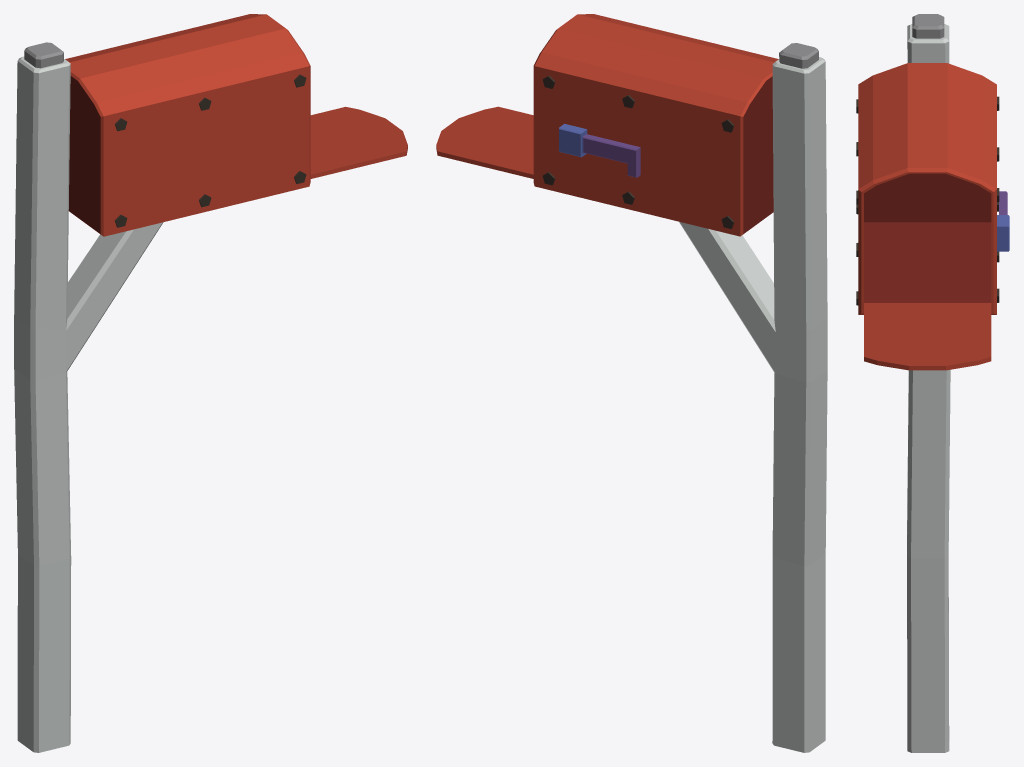
The model's file is MailPost_02.glb.
3 renders of one model, left to right at view 1: azimuth 30°, elevation 25°; view 2: azimuth 150°, elevation 25°; view 3: azimuth 270°, elevation 25°, orthographic. The views are drawn at different scales.
Visible parts, largest first — view 1: MailPost_02; view 2: MailPost_02; view 3: MailPost_02.
Boxes of the visible parts, x1,y1,x2,y2 form: MailPost_02: [14, 14, 407, 752]; MailPost_02: [436, 14, 827, 752]; MailPost_02: [856, 14, 1009, 752].
Size of what is drawn, in the model's own units: 0.9341 by 1.67 by 0.3201.
Materials: 1 (1 with a texture image).
